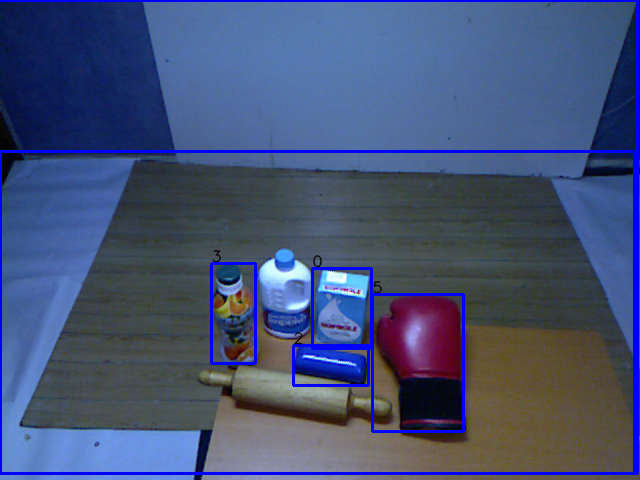borrador: (287, 340, 372, 389)
cloro: (251, 246, 317, 343)
guante: (371, 290, 476, 441)
leche: (313, 268, 373, 354)
uslero: (190, 357, 395, 426)
yogurt: (200, 258, 266, 370)
